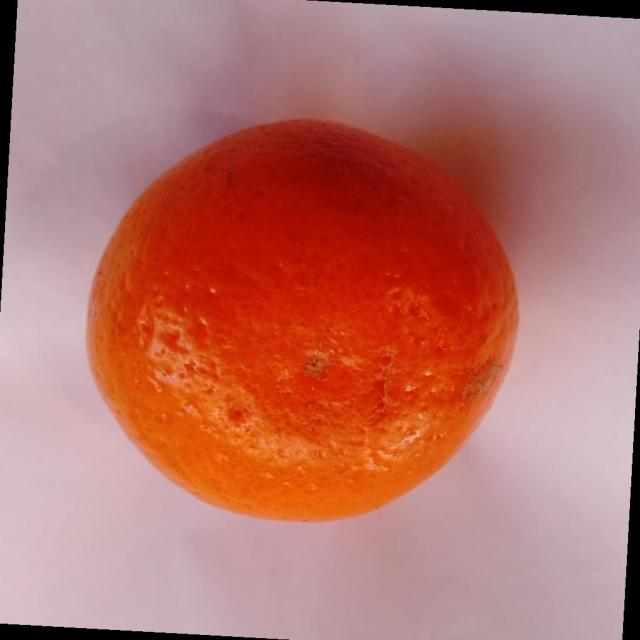fresh orange: (85, 116, 520, 524)
